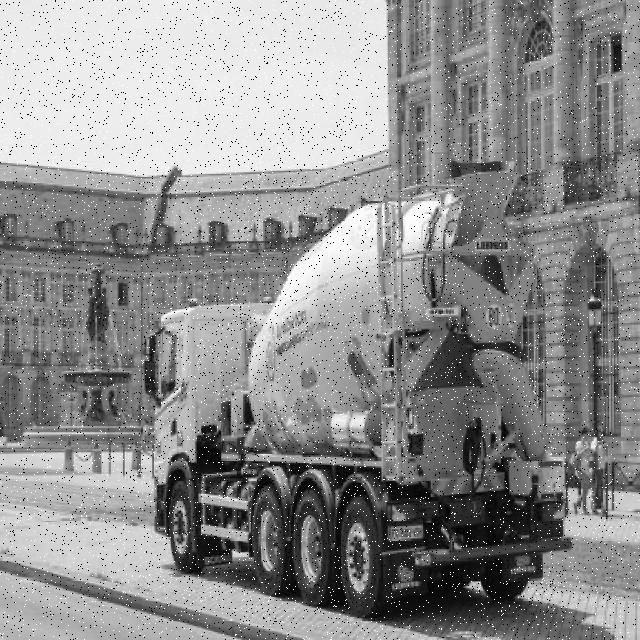Concrete Mixer: (140, 163, 573, 626)
